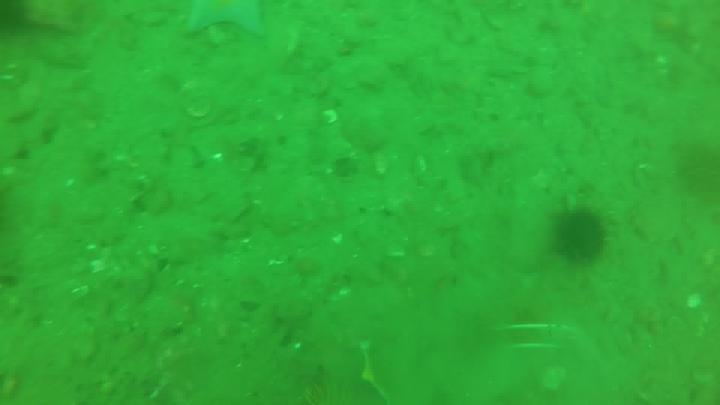echinus: (552, 212, 607, 267)
scallop: (186, 102, 212, 119), (322, 111, 339, 124), (687, 296, 702, 307)
starfish: (188, 1, 268, 38)
